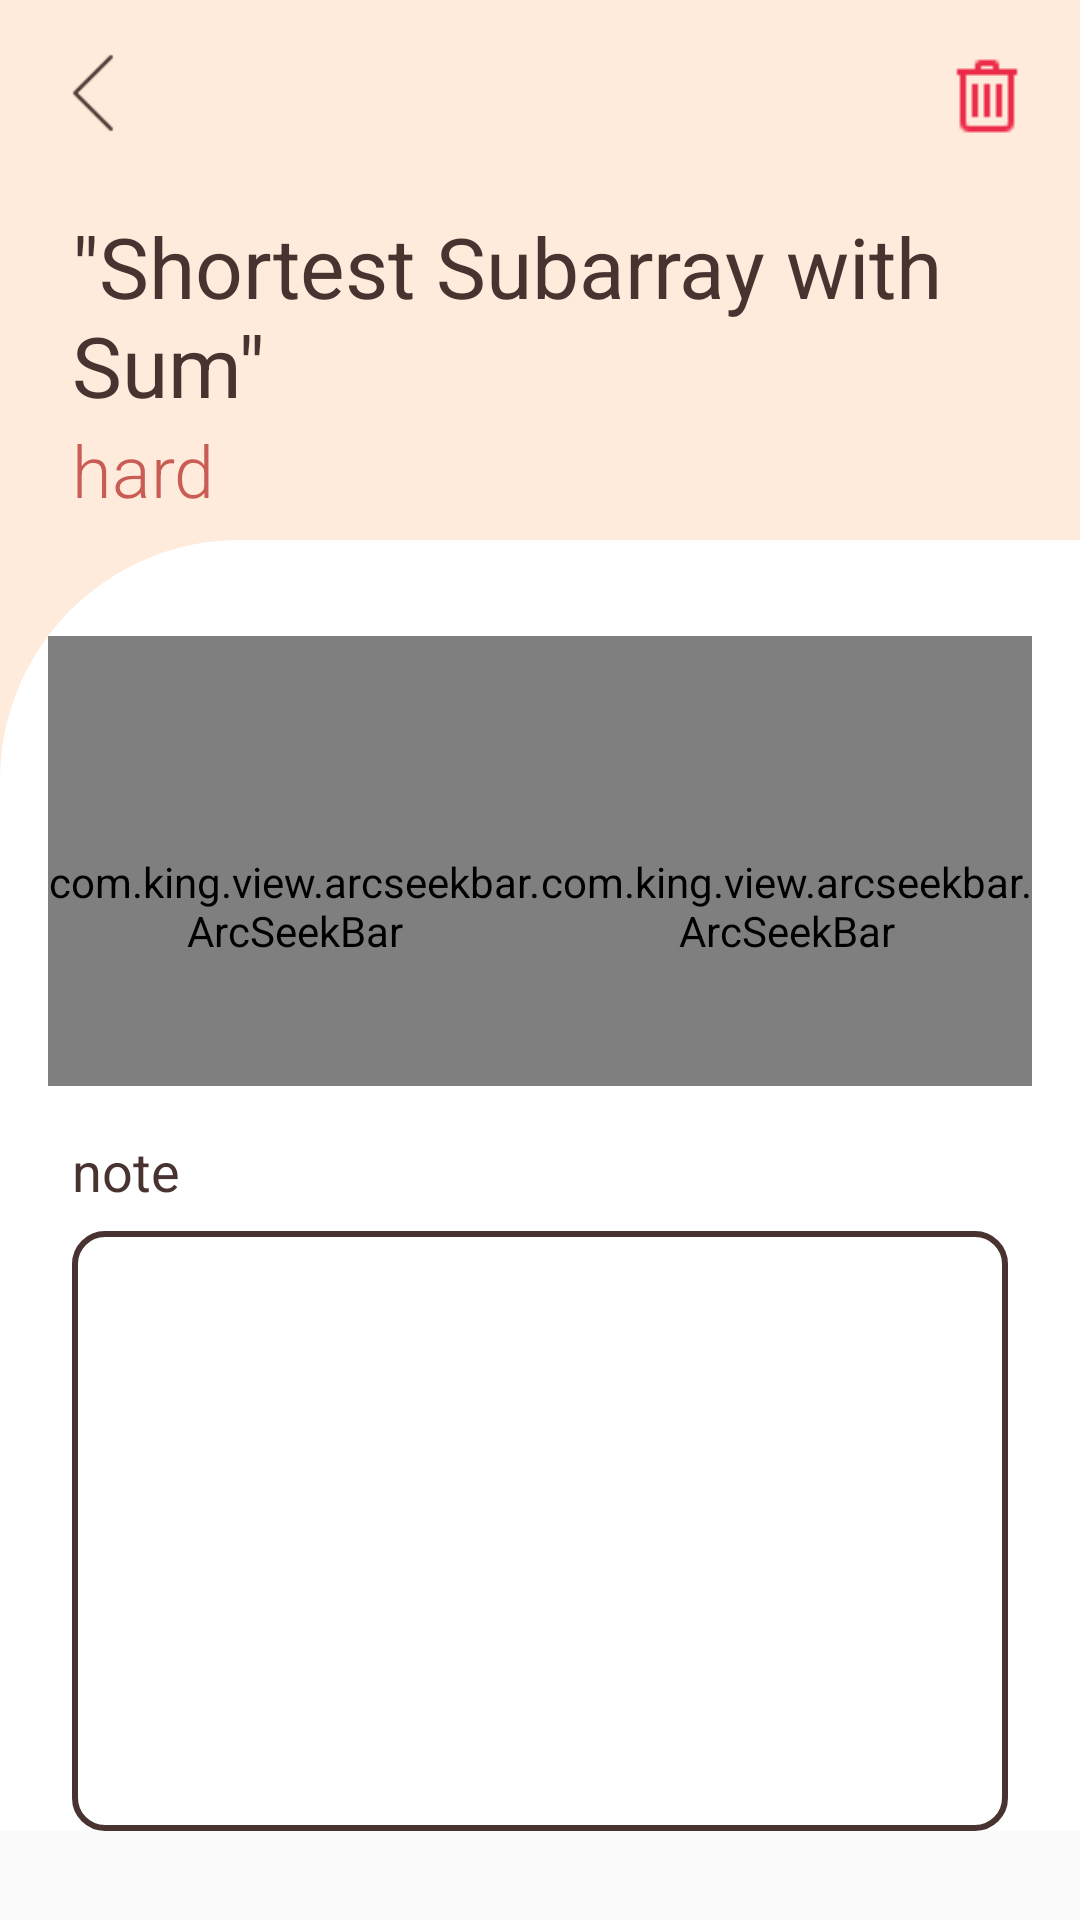

Named icons in this screenshot (1080×1920) and their centers, (x,y):
backbutton: (93,93)
trash: (987,96)
